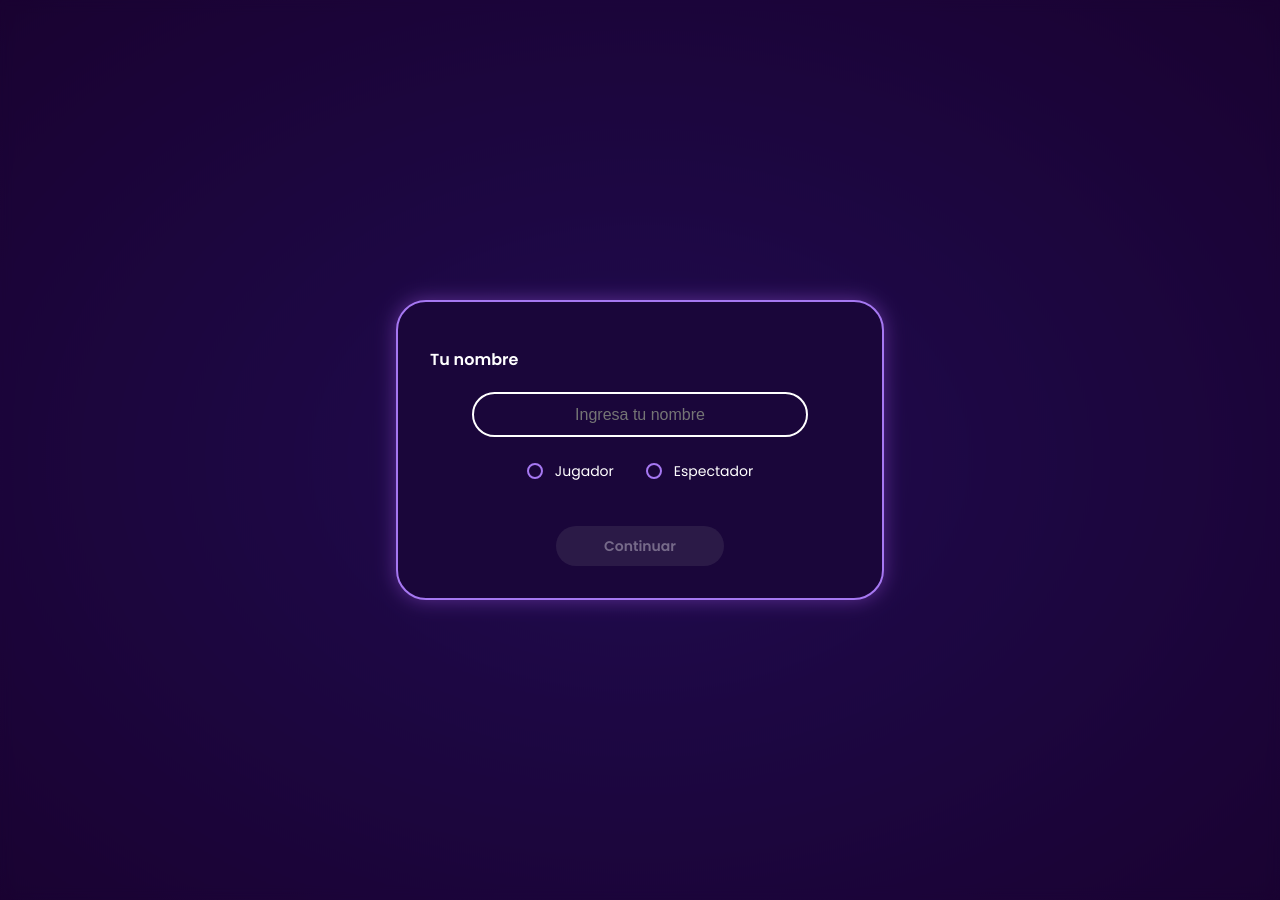
Scenario: ModalPlayer › activa el botón "Continuar" cuando el nombre y el rol son válidos
Type "Juan123" into the field with placeholder "Ingresa tu nombre" at {"x": 640, "y": 415}, box x1=472 y1=392 x2=808 y2=437
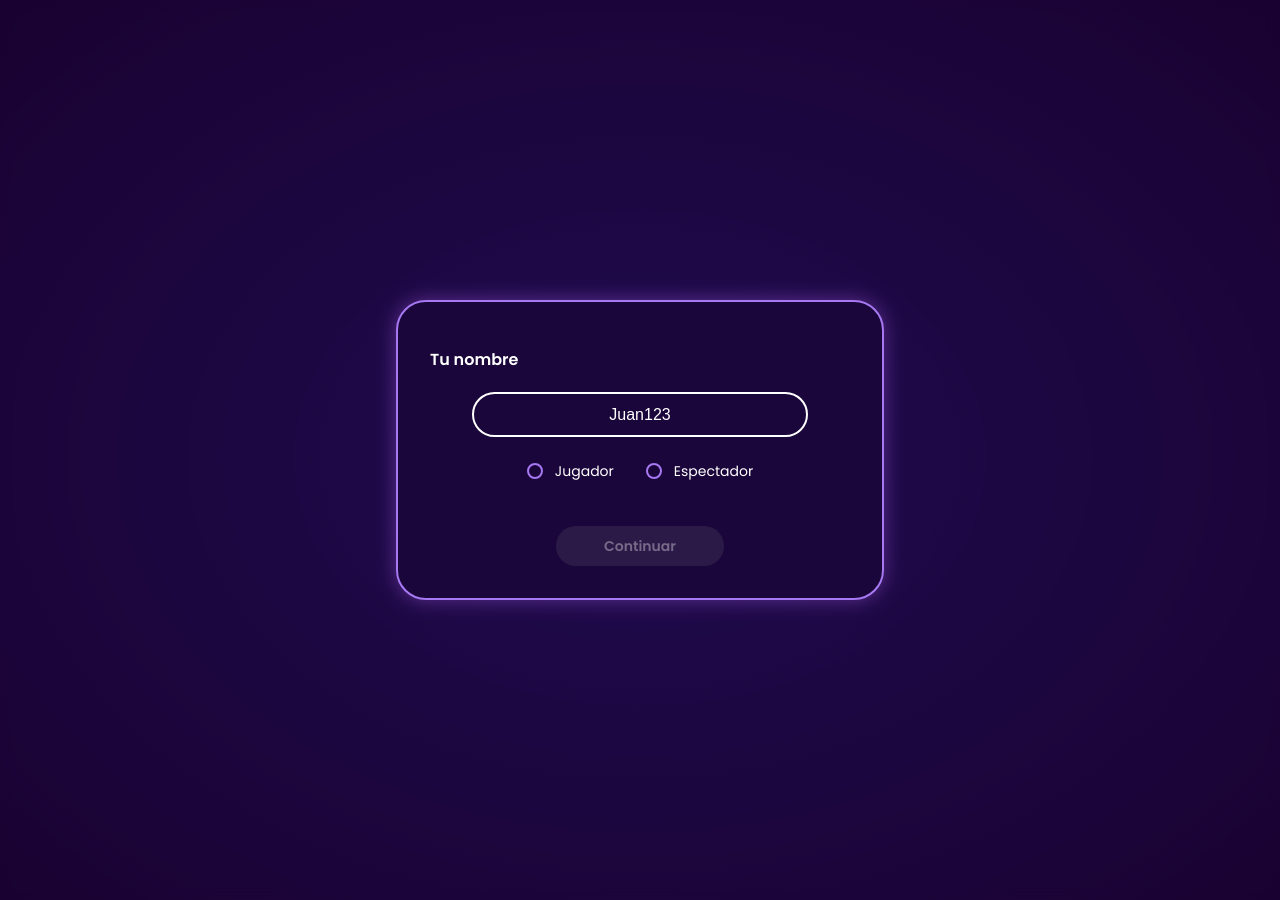
Click the radio button labelled "Jugador" at {"x": 535, "y": 471}, box x1=527 y1=463 x2=543 y2=479
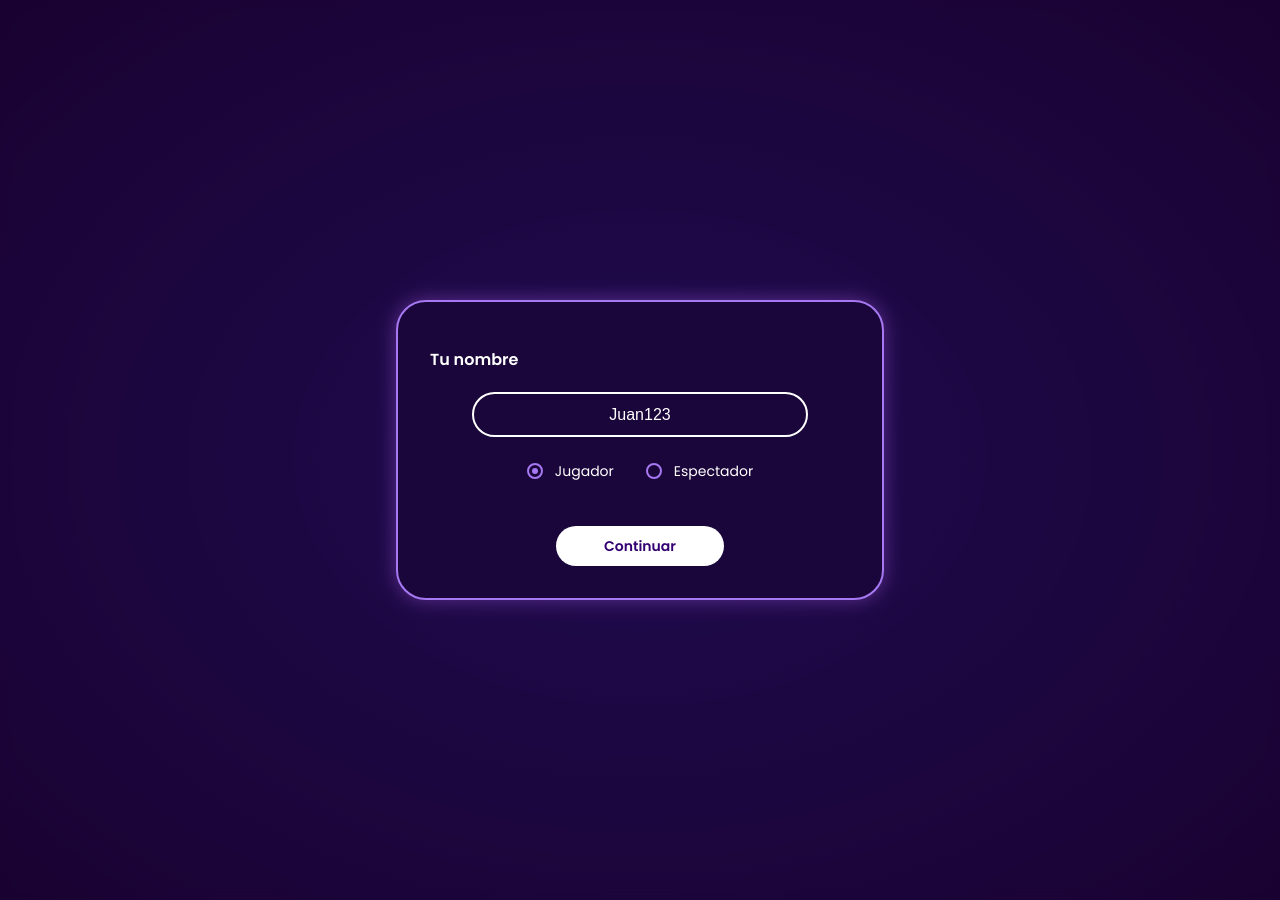
Result: the button "Continuar" is enabled at x1=556 y1=526 x2=724 y2=566
